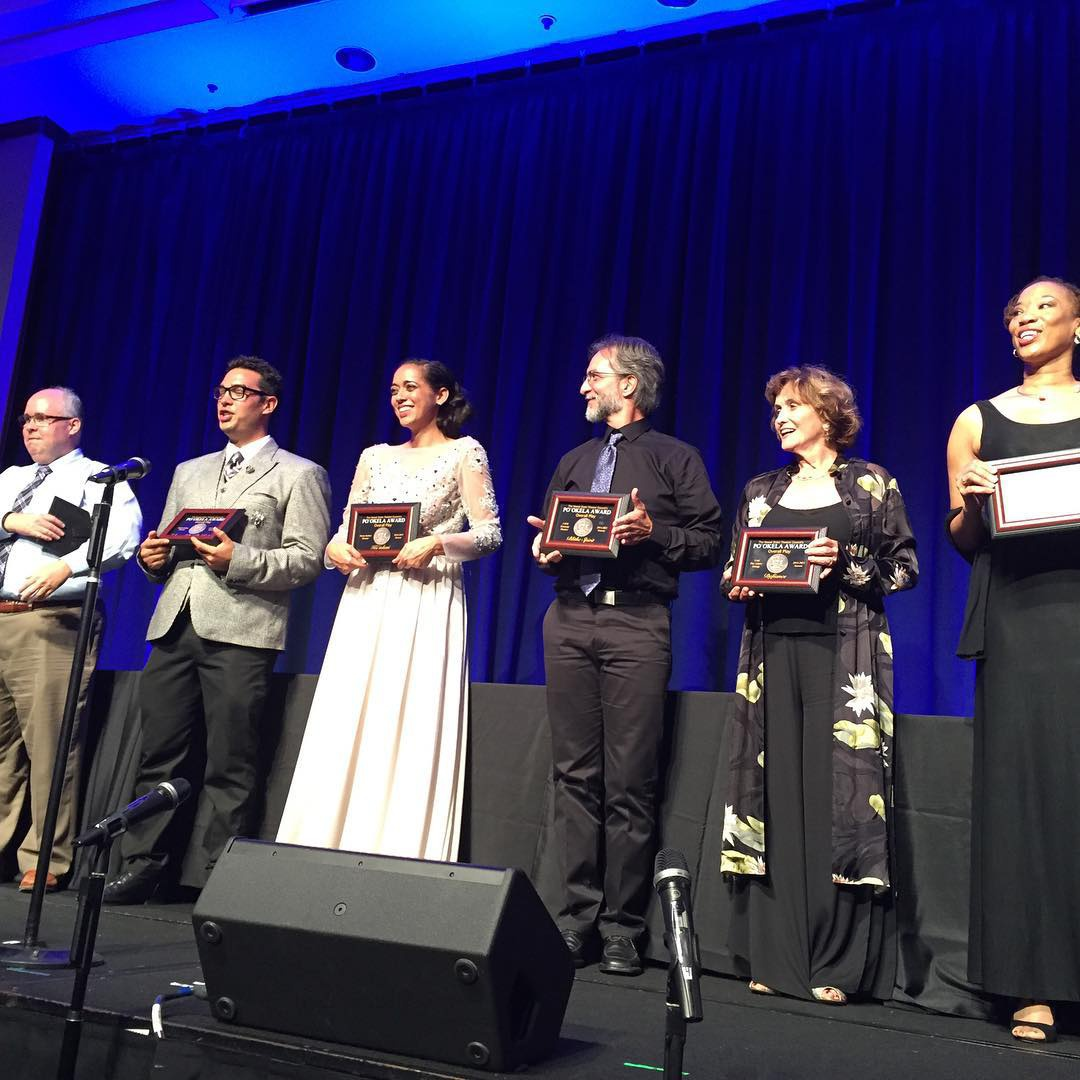bad: (992, 279, 1066, 354), (197, 370, 259, 433), (757, 389, 809, 441), (561, 360, 613, 412), (8, 401, 60, 452), (381, 372, 424, 415)
